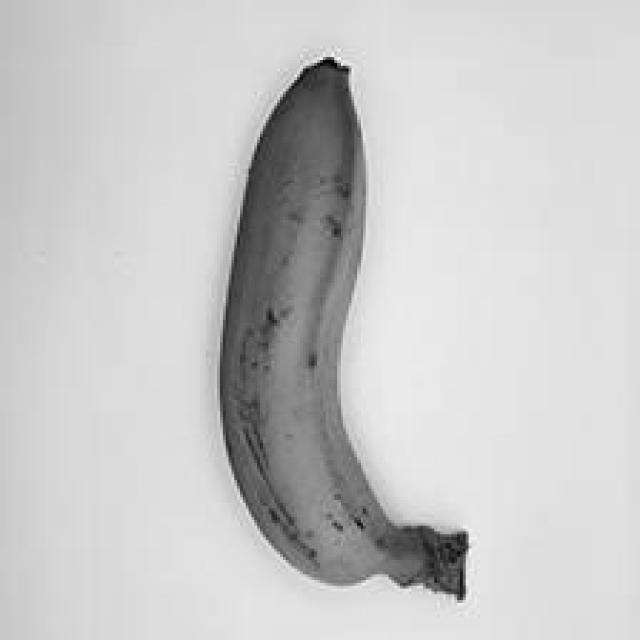Raw: (184, 32, 488, 615)
